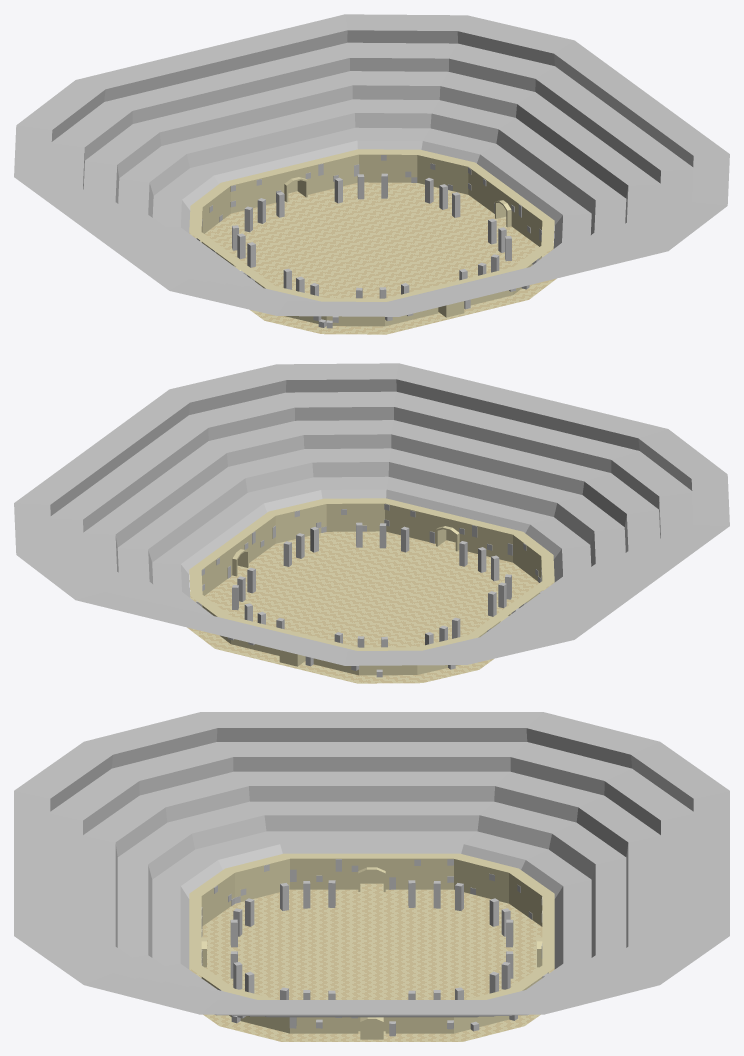
The picture shows the model from 3 angles, top to bottom: view 1: azimuth 30°, elevation 25°; view 2: azimuth 150°, elevation 25°; view 3: azimuth 270°, elevation 25°; orthographic projection. The views are drawn at different scales.
Parts seen in each view (by area): view 1: sandstoune_botton, sand, sandstone_top, kamen_moh, sandstoune_side; view 2: sandstoune_botton, sand, sandstone_top, kamen_moh, sandstoune_side; view 3: sandstoune_botton, sand, sandstone_top, kamen_moh, sandstoune_side.
Boxes of the visible parts, left/top/right/bottom form: sandstoune_botton: left=14, top=14, right=729, bottom=316; sand: left=189, top=182, right=556, bottom=334; sandstone_top: left=189, top=149, right=554, bottom=326; kamen_moh: left=232, top=173, right=511, bottom=298; sandstoune_side: left=196, top=155, right=542, bottom=328; sandstoune_botton: left=14, top=363, right=729, bottom=665; sand: left=187, top=531, right=554, bottom=683; sandstone_top: left=189, top=498, right=554, bottom=675; kamen_moh: left=232, top=522, right=511, bottom=647; sandstoune_side: left=196, top=504, right=542, bottom=677; sandstoune_botton: left=14, top=712, right=729, bottom=1017; sand: left=189, top=883, right=554, bottom=1041; sandstone_top: left=189, top=853, right=554, bottom=1039; kamen_moh: left=230, top=880, right=513, bottom=999; sandstoune_side: left=201, top=859, right=548, bottom=1036.
Size of the model in its own units: 10504 by 1591 by 10504.
